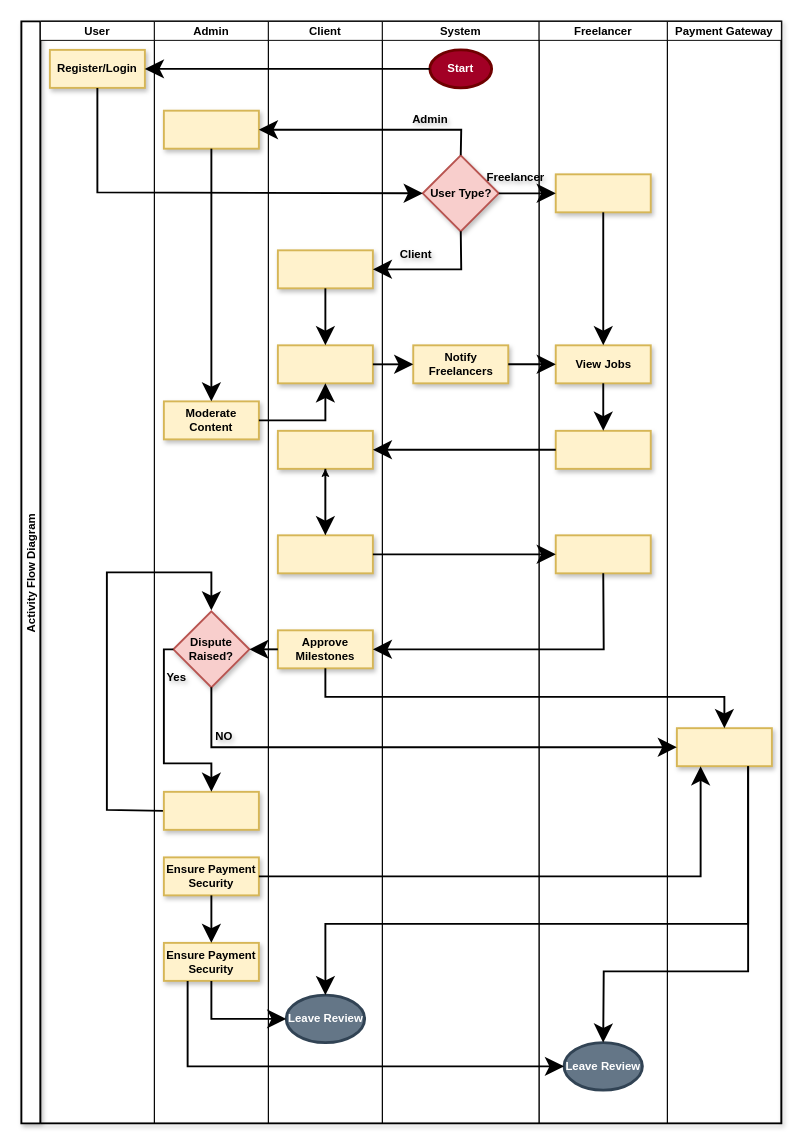
Image size: 804x1147. Some labels were removed from this diagram. The centre of each missing label's shape, as x and y in pixels:
Assign Job: point 326,555
Make Client Profile: point 326,270
Make Freelancer Profile: point 604,194
Monitor Platform Analytics: point 212,130
Post Job: point 326,365
Process Payment: point 725,748
Resolve Dispute: point 212,812
Review Bid: point 326,451
Submit Bid: point 604,451
Work on Project: point 604,555
